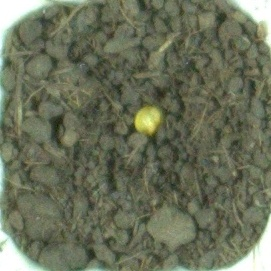chilli seed: (131, 104, 163, 137)
